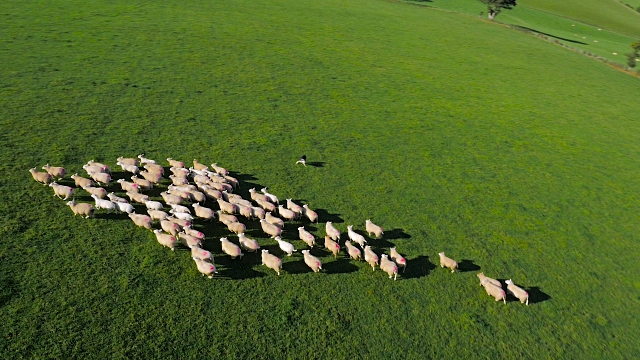sheep: (257, 250, 292, 277), (475, 273, 507, 302), (62, 201, 105, 222), (175, 186, 208, 213), (156, 226, 186, 254), (299, 248, 325, 279), (94, 199, 124, 224), (235, 205, 267, 227), (438, 250, 464, 277), (27, 167, 58, 188), (297, 227, 324, 251), (503, 278, 531, 301), (195, 256, 218, 283), (326, 219, 347, 248), (82, 180, 111, 201), (236, 234, 268, 253), (253, 188, 277, 213), (163, 213, 188, 237), (110, 189, 133, 215), (367, 213, 385, 246), (125, 210, 152, 232), (347, 219, 368, 247), (167, 194, 193, 216), (52, 183, 80, 203), (190, 157, 213, 181), (378, 253, 399, 279), (138, 165, 166, 184), (82, 161, 110, 180), (221, 216, 246, 237), (45, 163, 71, 183), (210, 163, 231, 187), (137, 190, 158, 213), (275, 237, 295, 261), (220, 238, 244, 258), (388, 244, 406, 269), (327, 238, 345, 263), (345, 242, 363, 266), (183, 240, 207, 258), (361, 248, 378, 271), (120, 156, 137, 178), (169, 154, 186, 176), (192, 173, 210, 193), (140, 153, 162, 168), (223, 188, 239, 208), (125, 179, 142, 195)
